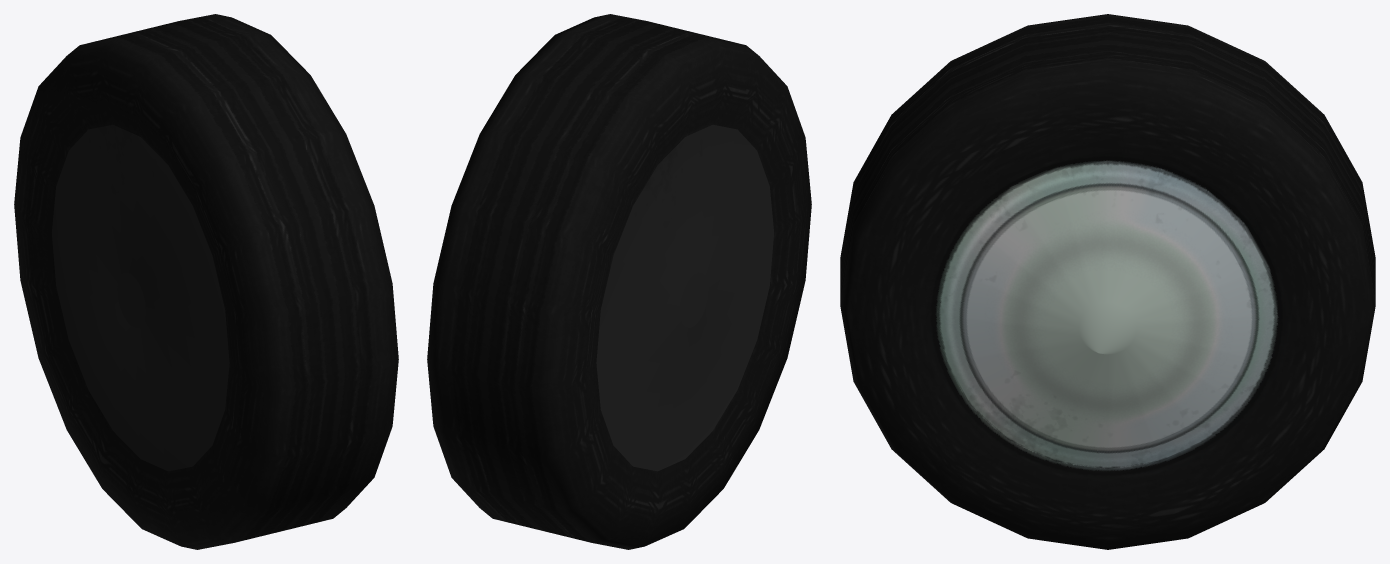
File: Wheel.fbx
The picture shows the model from 3 angles, left to right: view 1: azimuth 30°, elevation 25°; view 2: azimuth 150°, elevation 25°; view 3: azimuth 270°, elevation 25°; orthographic projection.
Parts seen in each view (by area): view 1: pCylinder2; view 2: pCylinder2; view 3: pCylinder2.
Part boxes in pixels (left/top/right/bottom): pCylinder2: left=14, top=14, right=398, bottom=549; pCylinder2: left=427, top=14, right=811, bottom=549; pCylinder2: left=840, top=14, right=1375, bottom=549.
Bounding box in the file's own units: 0.7387 × 2 × 2.
